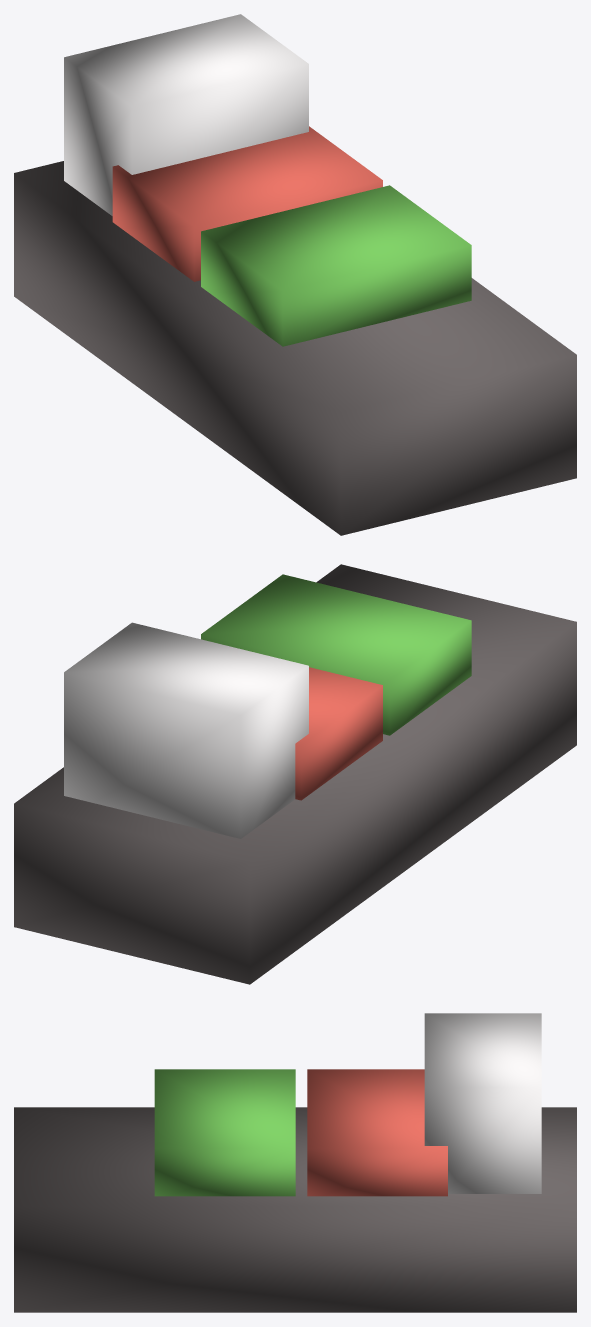
The model's file is cargo_ship.glb.
The picture shows the model from 3 angles, top to bottom: view 1: azimuth 30°, elevation 25°; view 2: azimuth 150°, elevation 25°; view 3: azimuth 270°, elevation 25°; orthographic projection. The views are drawn at different scales.
Parts seen in each view (by area): view 1: hull, bridge, c1, c2; view 2: hull, bridge, c1, c2; view 3: hull, bridge, c1, c2.
Part boxes in pixels (left/top/right/bottom): hull: left=14, top=161, right=576, bottom=535; bridge: left=64, top=14, right=308, bottom=215; c1: left=201, top=185, right=471, bottom=346; c2: left=112, top=126, right=382, bottom=281; hull: left=14, top=564, right=576, bottom=984; bridge: left=64, top=622, right=308, bottom=838; c1: left=201, top=574, right=471, bottom=735; c2: left=295, top=667, right=382, bottom=800; hull: left=14, top=1107, right=576, bottom=1312; bridge: left=424, top=1013, right=541, bottom=1193; c1: left=154, top=1069, right=295, bottom=1196; c2: left=307, top=1069, right=447, bottom=1196.
Size of the model in its own units: 1 by 1 by 2.4.
